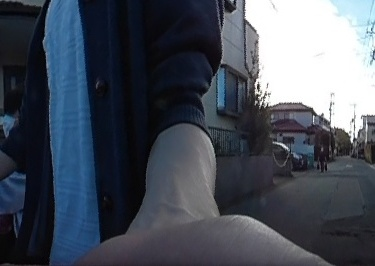person: (318, 143, 327, 174)
